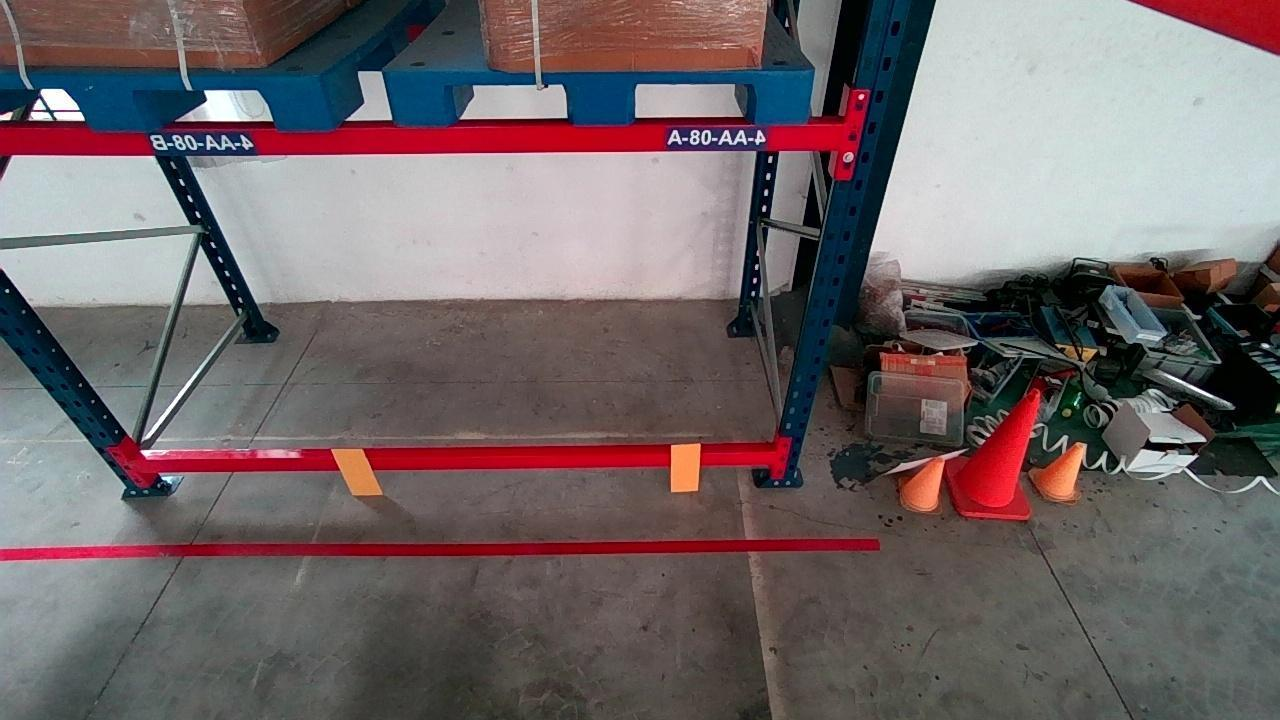h_rack: (9, 117, 837, 155), (145, 445, 774, 476)
orange_strip: (334, 446, 383, 495), (670, 440, 702, 491)
red_line: (5, 535, 878, 561)
small_pallet: (397, 67, 814, 122), (0, 73, 327, 130)
